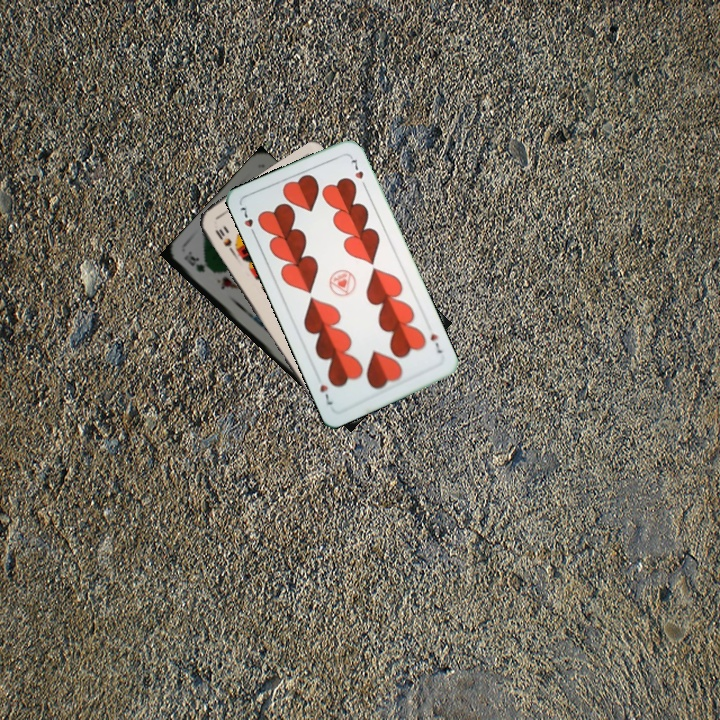GK: (180, 249, 208, 275)
H7: (236, 203, 259, 240), (426, 330, 445, 356)
S10: (211, 225, 237, 256)
